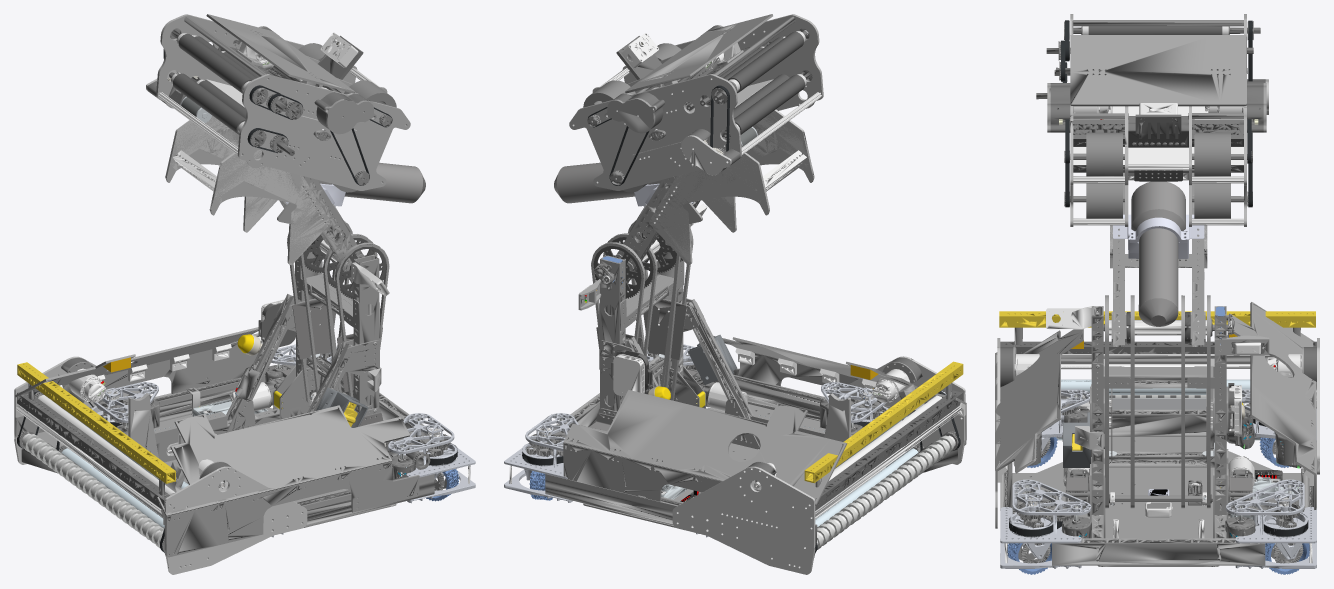
File: nocturne-3467.glb
The picture shows the model from 3 angles, left to right: view 1: azimuth 30°, elevation 25°; view 2: azimuth 150°, elevation 25°; view 3: azimuth 270°, elevation 25°; orthographic projection. The views are drawn at different scales.
Parts seen in each view (by area): view 1: frame, shooter, arm; view 2: frame, shooter, arm; view 3: frame, shooter, arm.
Boxes of the visible parts, x1,y1,x2,y2 form: frame: (14, 221, 475, 574); shooter: (146, 14, 425, 264); arm: (203, 124, 362, 283); frame: (504, 204, 966, 574); shooter: (554, 14, 823, 264); arm: (616, 124, 779, 283); frame: (995, 295, 1319, 574); shooter: (1036, 14, 1268, 326); arm: (1110, 172, 1207, 346).
Bounding box in the file's own units: 0.8566 × 1.09 × 0.6778.
